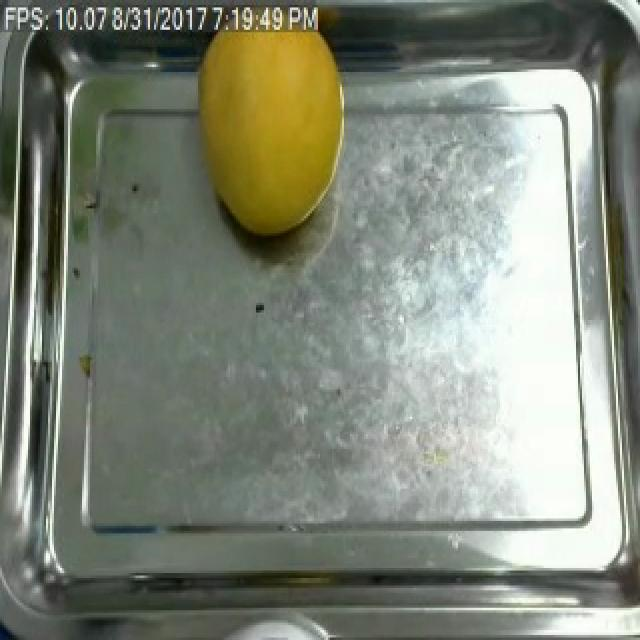fruit: (184, 20, 354, 248)
